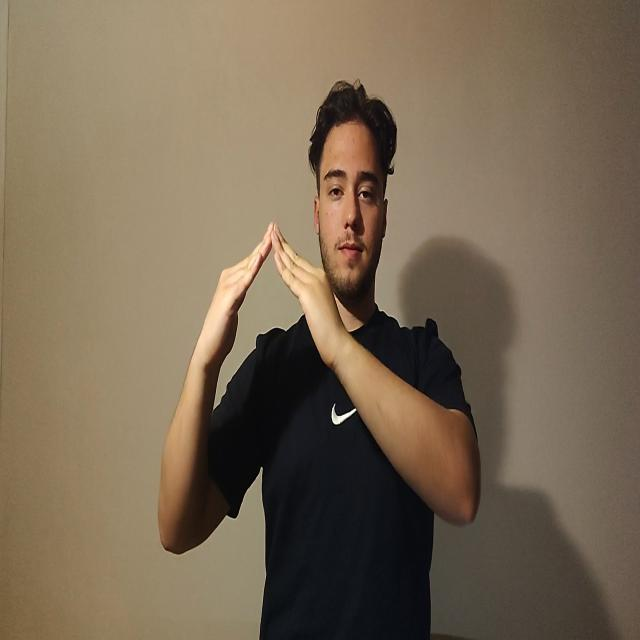house: (192, 214, 344, 373)
